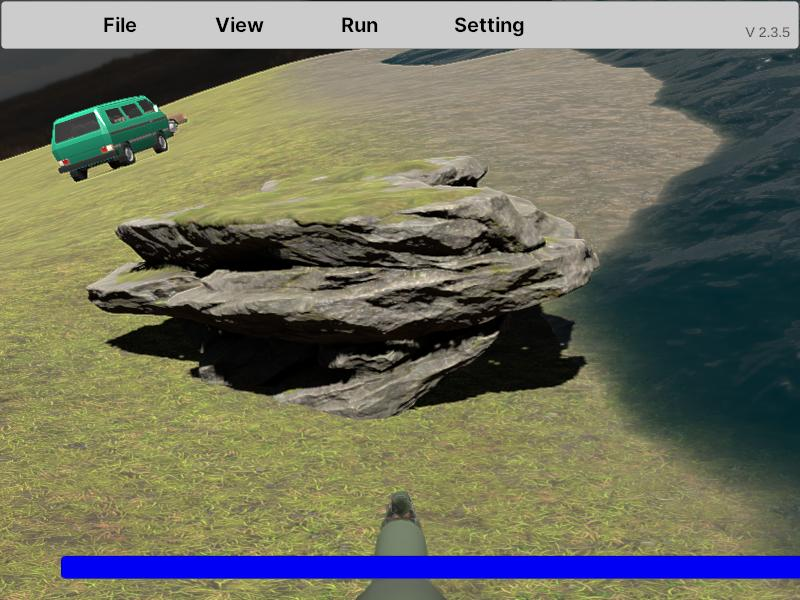car: (51, 95, 174, 183)
